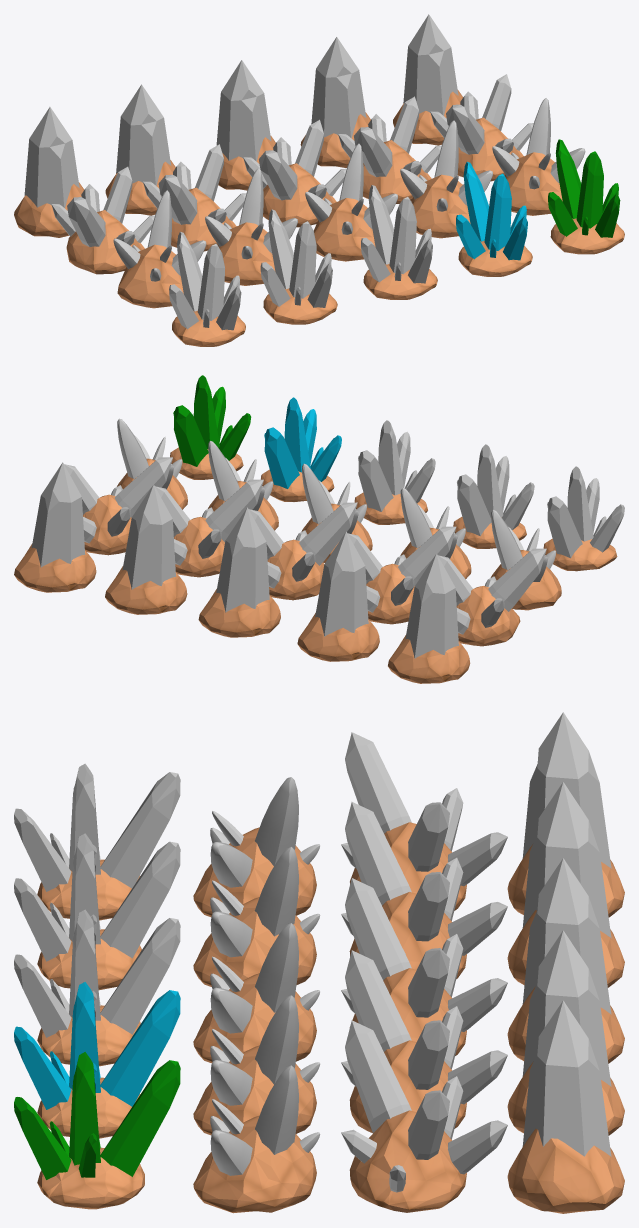
File: Crystals Joined.fbx
3 views of the same model, one above another, from view 1: azimuth 30°, elevation 25°; view 2: azimuth 150°, elevation 25°; view 3: azimuth 270°, elevation 25° (orthographic). The views are drawn at different scales.
Parts seen in each view (by area): view 1: Cube.010, Cube.102, Cube.053, Cube.098, Cube.106, Cube.104, Cube.105, Cube.019, Cube.047, Cube.096, Cube.097, Cube.101 (+8 smaller); view 2: Cube.097, Cube.057, Cube.105, Cube.047, Cube.101, Cube.106, Cube.104, Cube.019, Cube.053, Cube.096, Cube.098, Cube.010 (+8 smaller); view 3: Cube.100, Cube.101, Cube.102, Cube.099, Cube.010, Cube.053, Cube.098, Cube.106, Cube.055, Cube.096, Cube.019, Cube.104 (+8 smaller).
Boxes of the visible parts, x1=… form: Cube.010: x1=260, y1=209, x2=337, y2=324; Cube.102: x1=548, y1=139, x2=624, y2=254; Cube.053: x1=361, y1=185, x2=437, y2=299; Cube.098: x1=456, y1=162, x2=532, y2=276; Cube.106: x1=169, y1=231, x2=245, y2=346; Cube.104: x1=51, y1=166, x2=154, y2=274; Cube.105: x1=14, y1=107, x2=84, y2=237; Cube.019: x1=243, y1=119, x2=346, y2=227; Cube.047: x1=216, y1=60, x2=275, y2=190; Cube.096: x1=338, y1=96, x2=441, y2=203; Cube.097: x1=300, y1=37, x2=370, y2=167; Cube.101: x1=393, y1=14, x2=462, y2=145; Cube.097: x1=105, y1=484, x2=187, y2=614; Cube.057: x1=297, y1=531, x2=379, y2=661; Cube.105: x1=388, y1=553, x2=470, y2=683; Cube.047: x1=198, y1=507, x2=280, y2=637; Cube.101: x1=14, y1=462, x2=96, y2=592; Cube.106: x1=543, y1=466, x2=624, y2=571; Cube.104: x1=438, y1=548, x2=546, y2=646; Cube.019: x1=249, y1=502, x2=357, y2=600; Cube.053: x1=354, y1=420, x2=435, y2=524; Cube.096: x1=155, y1=479, x2=263, y2=577; Cube.098: x1=261, y1=397, x2=341, y2=501; Cube.010: x1=453, y1=444, x2=534, y2=548; Cube.100: x1=341, y1=1020, x2=507, y2=1212; Cube.101: x1=507, y1=1000, x2=624, y2=1213; Cube.102: x1=14, y1=1052, x2=180, y2=1209; Cube.099: x1=193, y1=1065, x2=320, y2=1213; Cube.010: x1=14, y1=833, x2=180, y2=990; Cube.053: x1=14, y1=909, x2=180, y2=1066; Cube.098: x1=14, y1=982, x2=180, y2=1138; Cube.106: x1=14, y1=763, x2=180, y2=920; Cube.055: x1=341, y1=802, x2=507, y2=978; Cube.096: x1=341, y1=950, x2=507, y2=1133; Cube.019: x1=341, y1=878, x2=507, y2=1055; Cube.104: x1=341, y1=732, x2=507, y2=910.
Bounding box in the file's own units: 4393 × 1094 × 3135.
